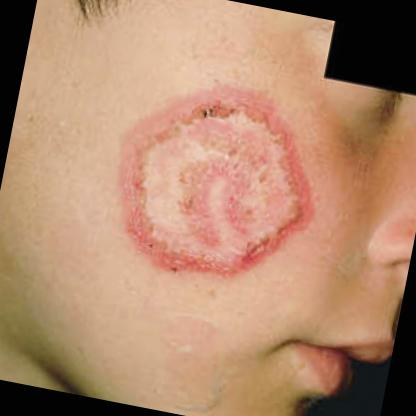Ringworm: (84, 48, 344, 305)
